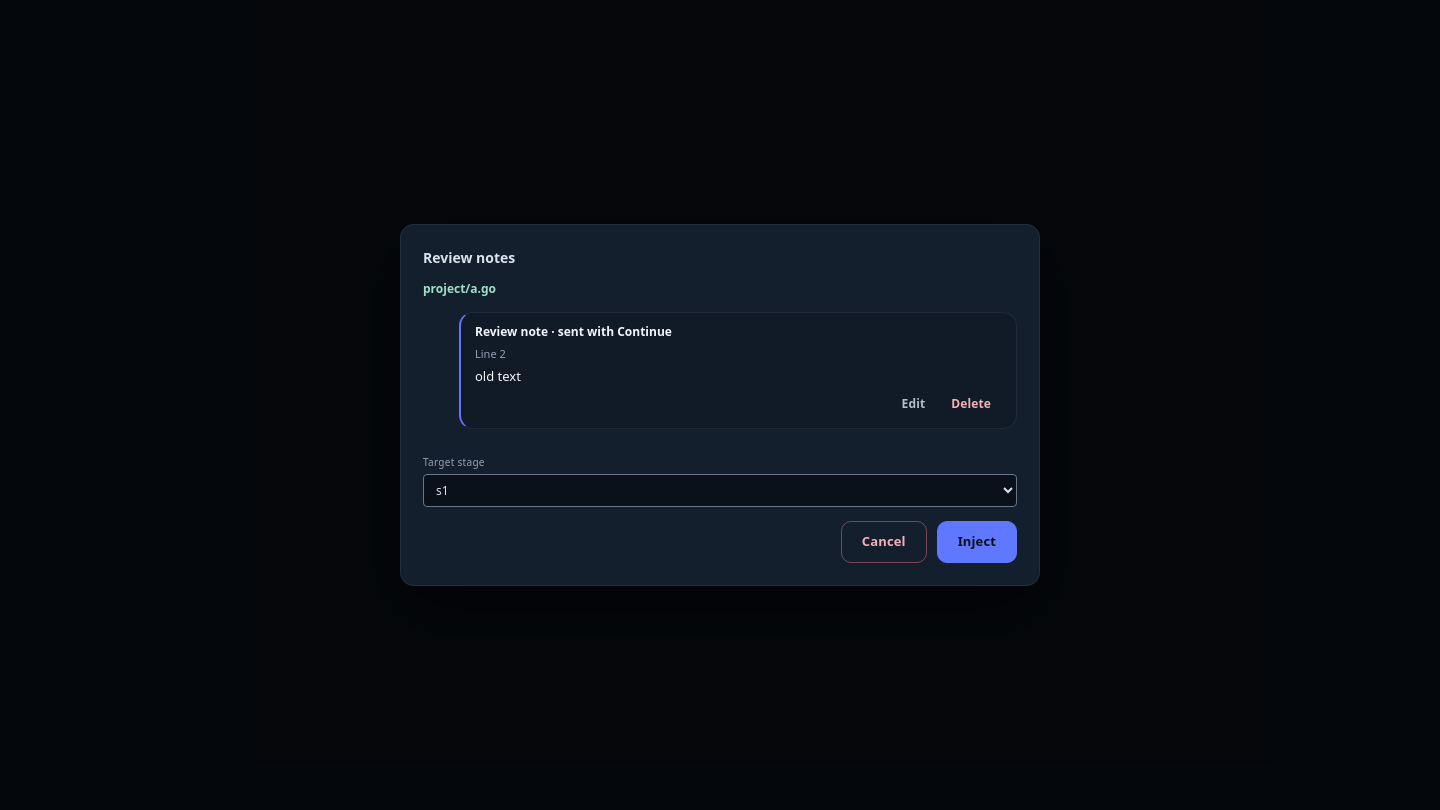
Test: ReviewNotesModal › edits a note and updates the tracked rev
Expected: the text "old text" is shown, [475,367,521,385]
Click the button "Edit" at (913, 404), box [891,390,936,418]
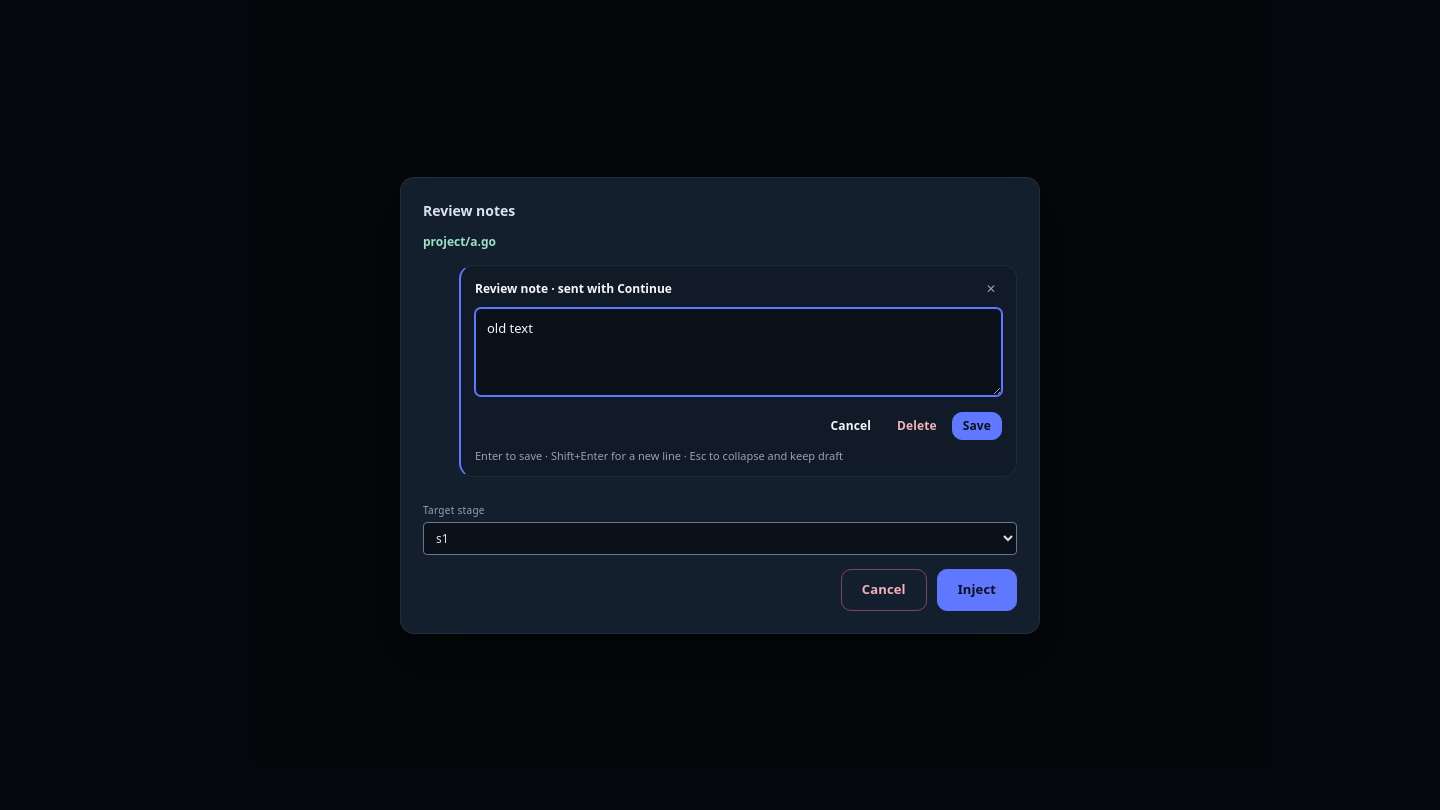
Replace the text in the text box with "new text" at (738, 352), box [475,308,1002,396]
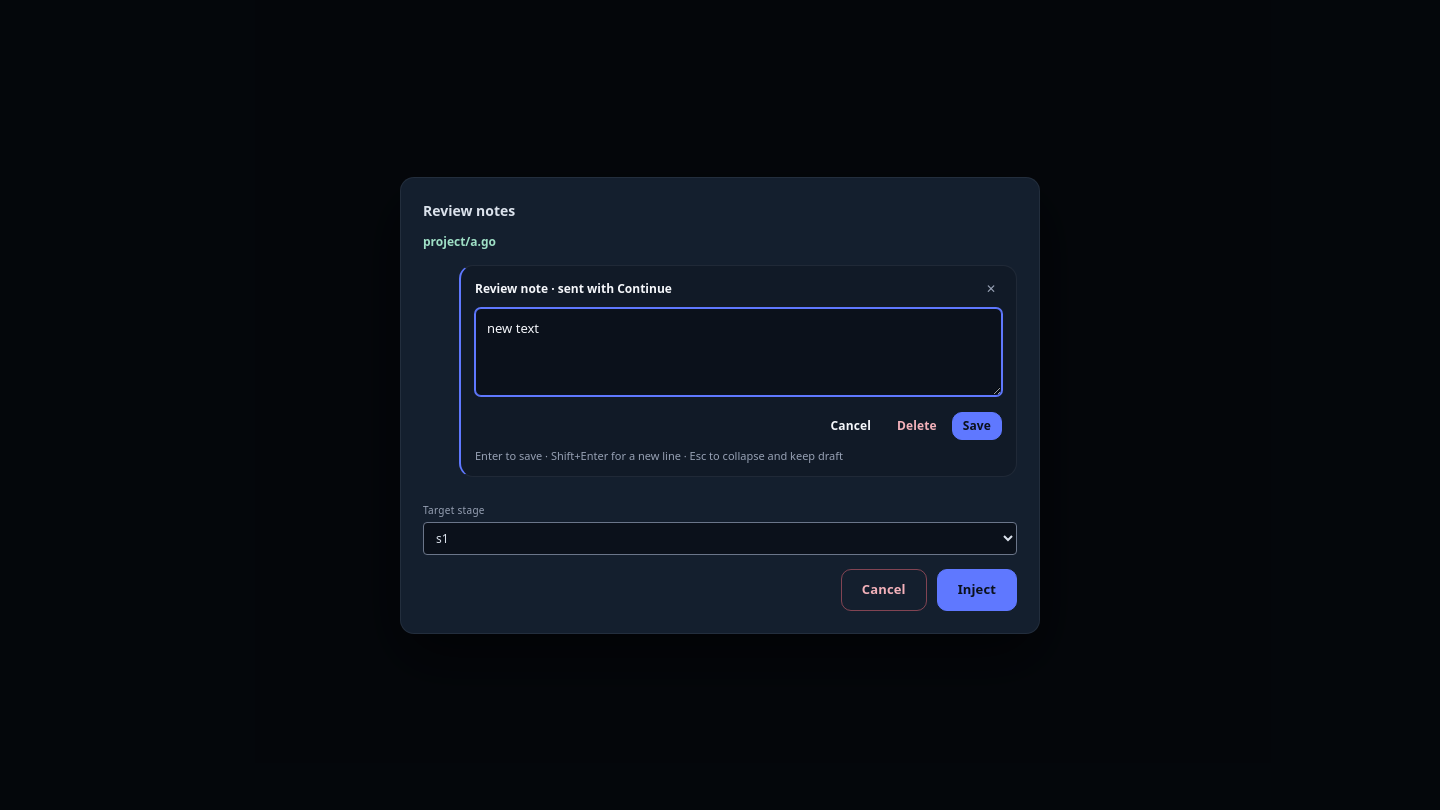
Click the button "Save" at (977, 426), box [952,412,1002,440]
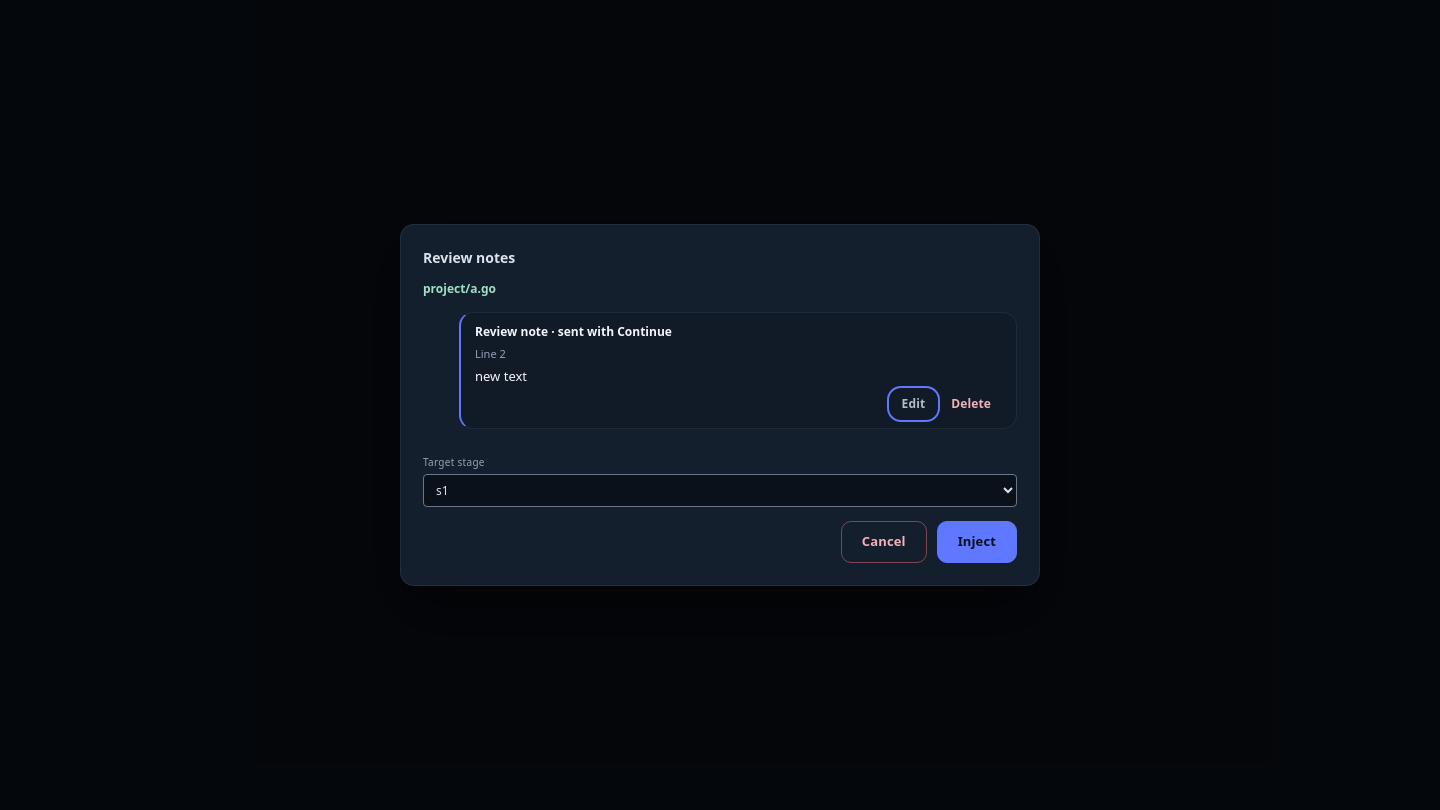
Result: the text "new text" is shown at [475,367,527,385]
